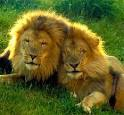lion: (59, 28, 123, 115), (2, 16, 59, 92)
